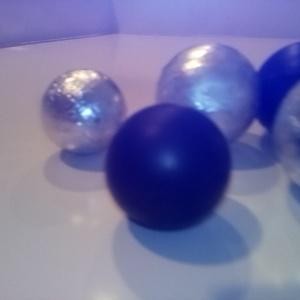alive_ball: (156, 43, 258, 143), (41, 68, 127, 156), (273, 82, 300, 185)
dead_ball: (105, 103, 232, 232), (257, 43, 300, 131)
